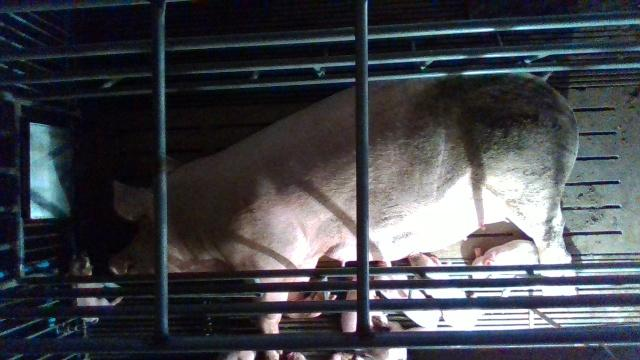piglet: (407, 250, 481, 329), (372, 260, 440, 330), (468, 238, 542, 297), (64, 249, 120, 323)
sow-sleep-lactate: (108, 73, 580, 333)
